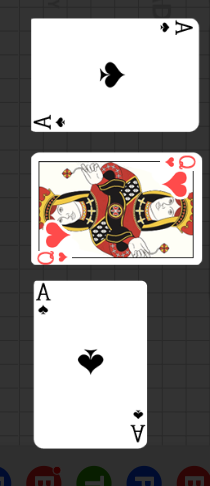AS: (128, 407, 145, 444), (33, 112, 68, 129), (36, 283, 53, 318)
